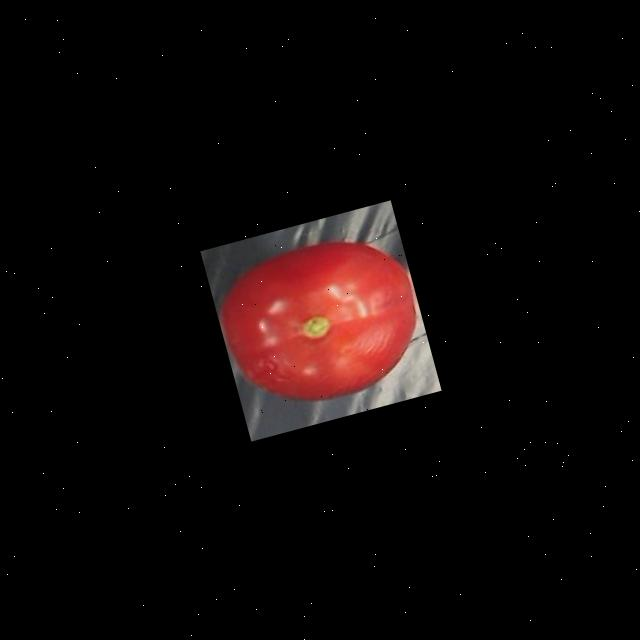tomato: (204, 217, 436, 425)
